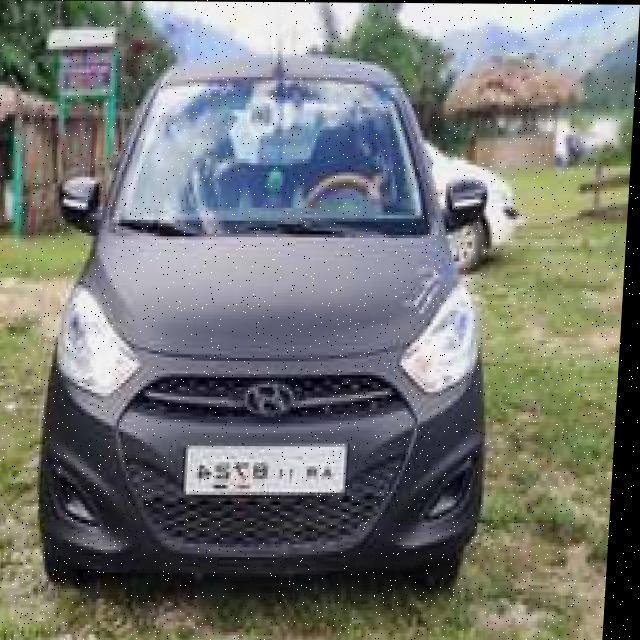plate: (189, 439, 355, 500)
